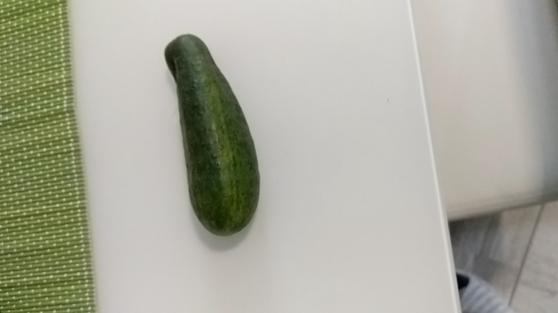cucumber: (163, 30, 265, 238)
